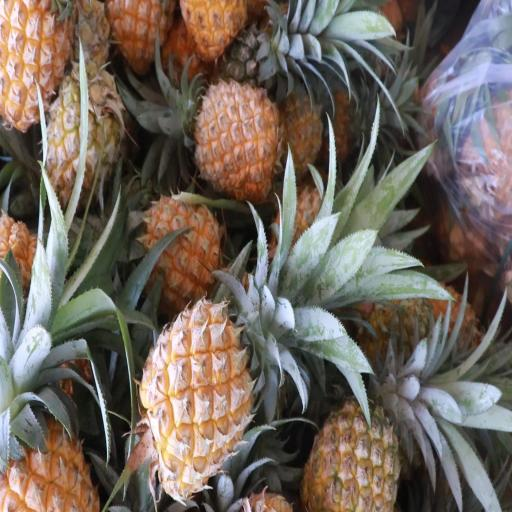------------------------------: (303, 390, 399, 512), (42, 72, 121, 214)
Pineapple - v8 v1: (140, 304, 254, 483), (0, 397, 95, 512), (195, 82, 280, 194), (0, 0, 71, 125), (142, 196, 220, 302)
